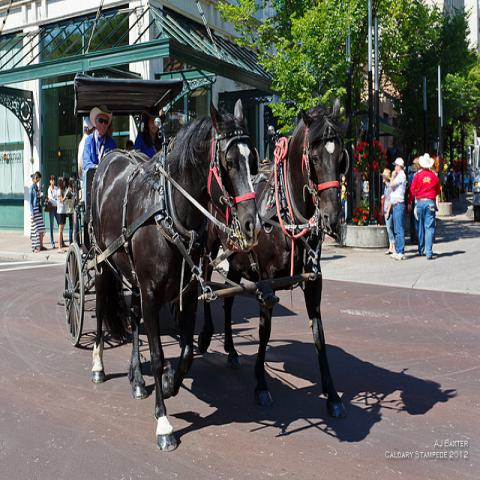car: (472, 174, 480, 223)
